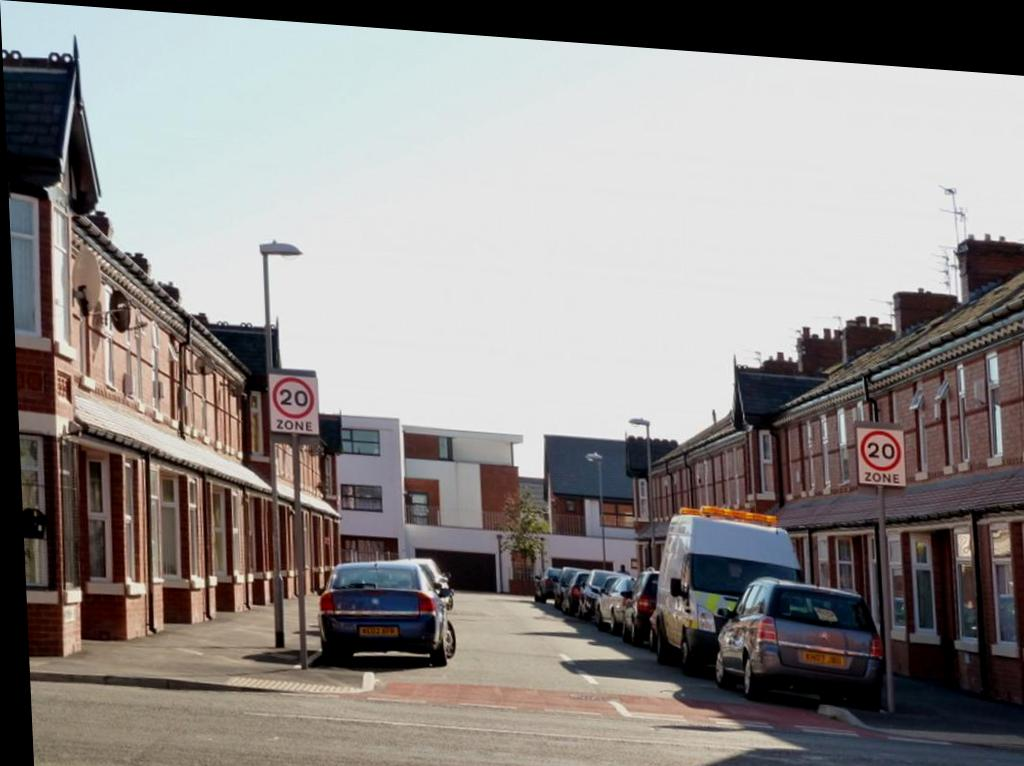License_Plate: (797, 642, 842, 668), (359, 626, 398, 640)
